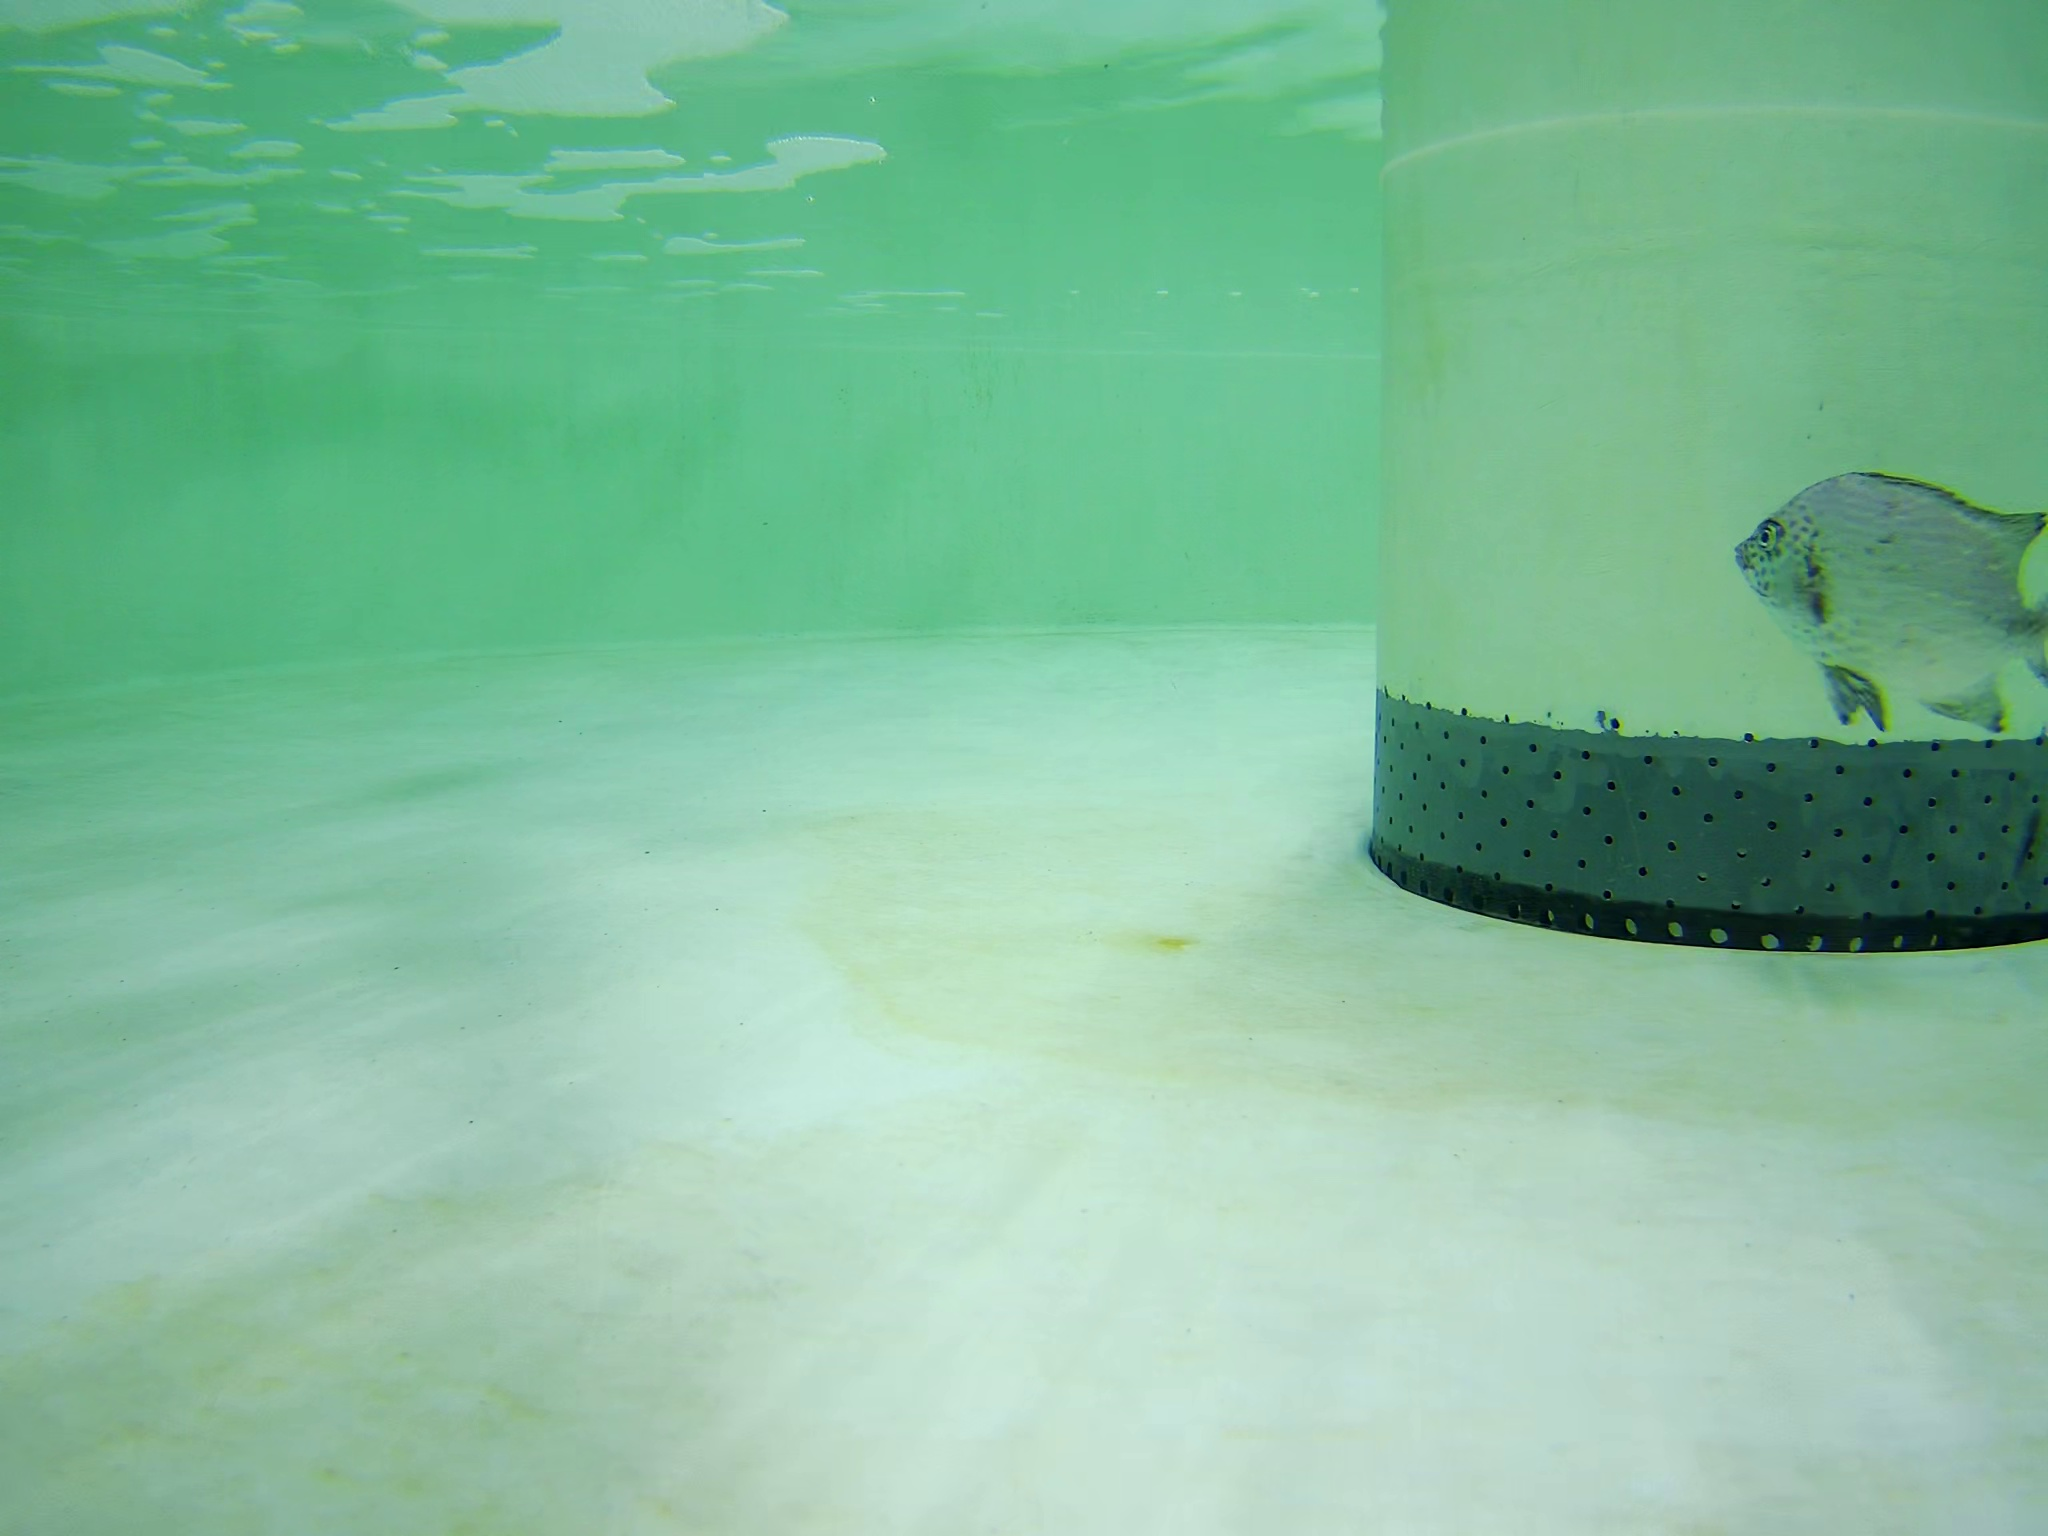fish: (1737, 466, 2048, 750)
